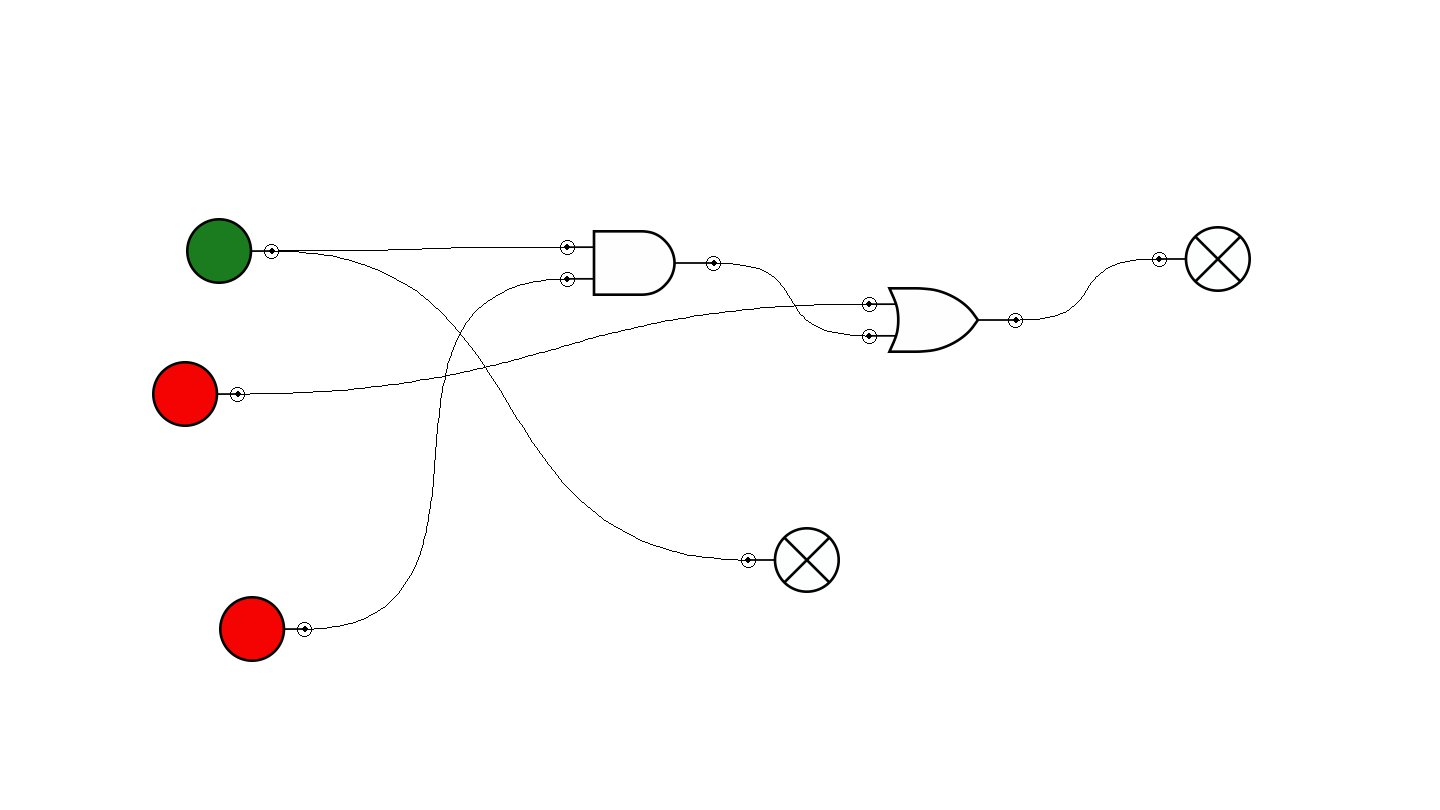and: (560, 230, 721, 296)
bulb: (741, 527, 840, 593), (1152, 226, 1251, 292)
or: (862, 287, 1023, 353)
switch_False: (152, 361, 245, 427), (219, 596, 312, 662)
switch_True: (186, 218, 279, 284)
